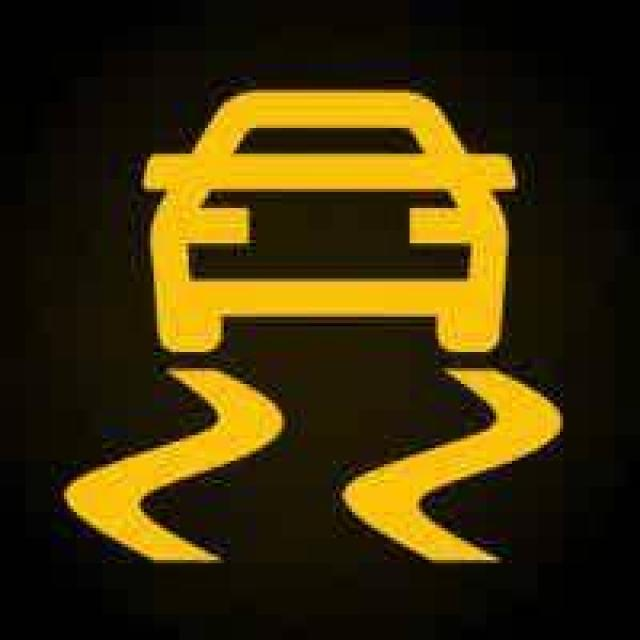kontrolka: (48, 65, 595, 598)
